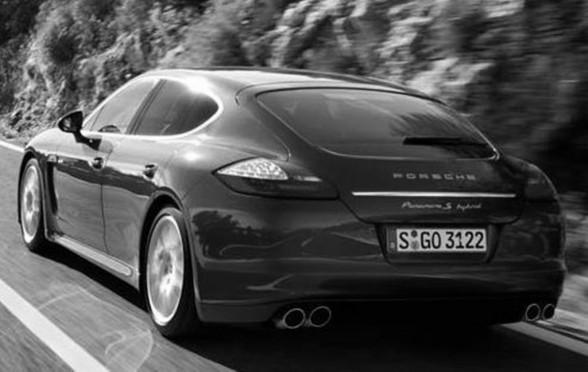car: (18, 68, 570, 342)
